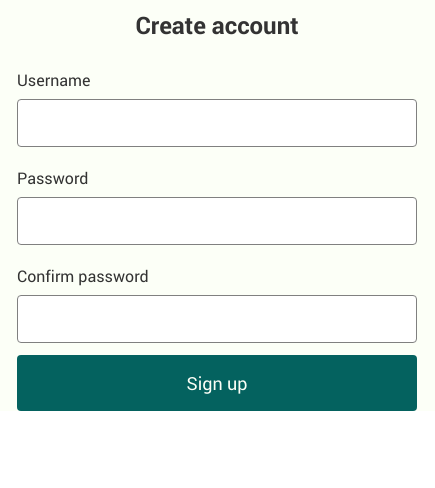
Password input with invalid input
The width and height of the screenshot is (435, 488).
Step 1. Type "password123" into the password field labelled "Password" → (217, 221), box [17, 197, 417, 245]
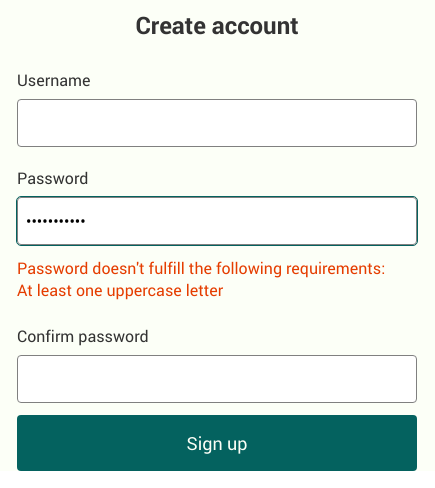
Expected: the text "Password doesn't fulfill" is shown, [17, 257, 385, 301]
